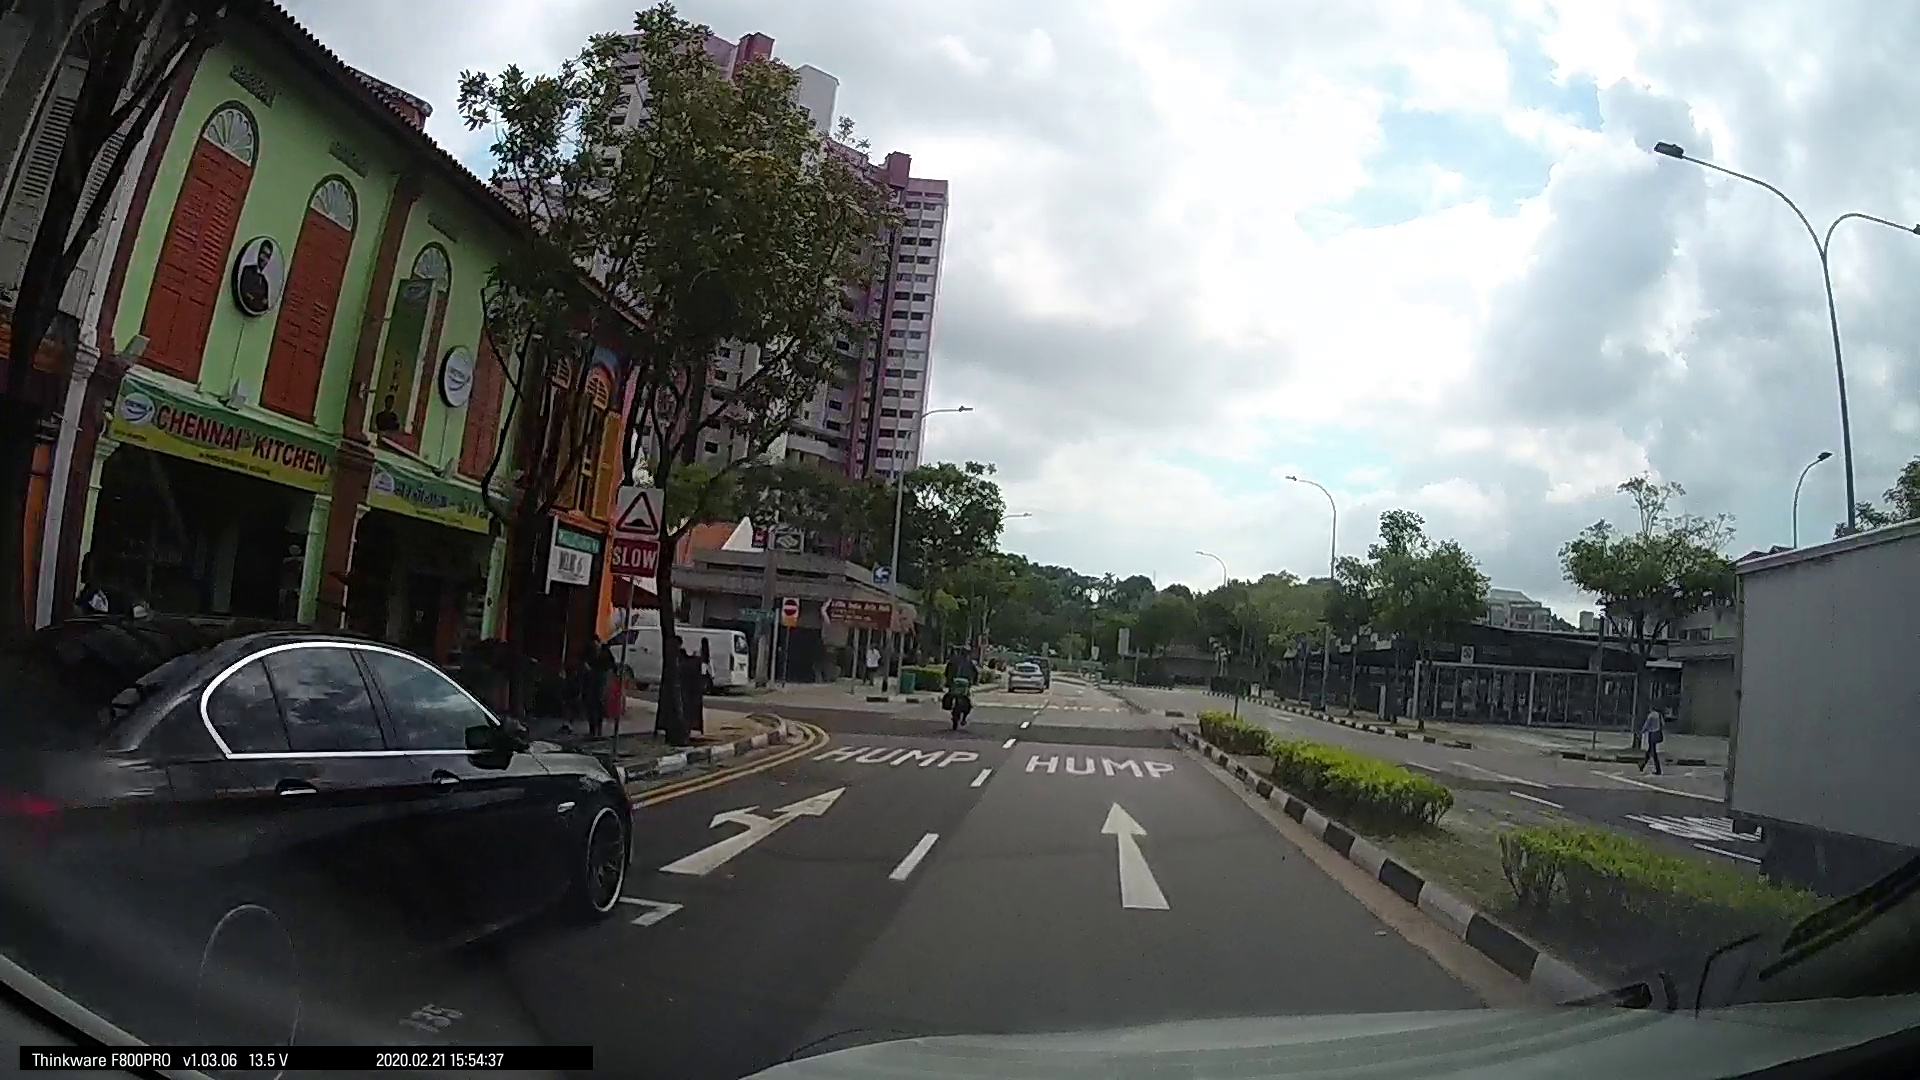Heavy Vehicle: (1708, 537, 1908, 905)
Light Vehicle: (3, 622, 651, 1004), (1004, 651, 1047, 694)
Motorcycle: (936, 644, 978, 727)
